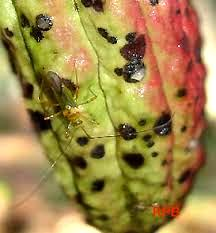Helopeltis-insect: (38, 69, 92, 136)
